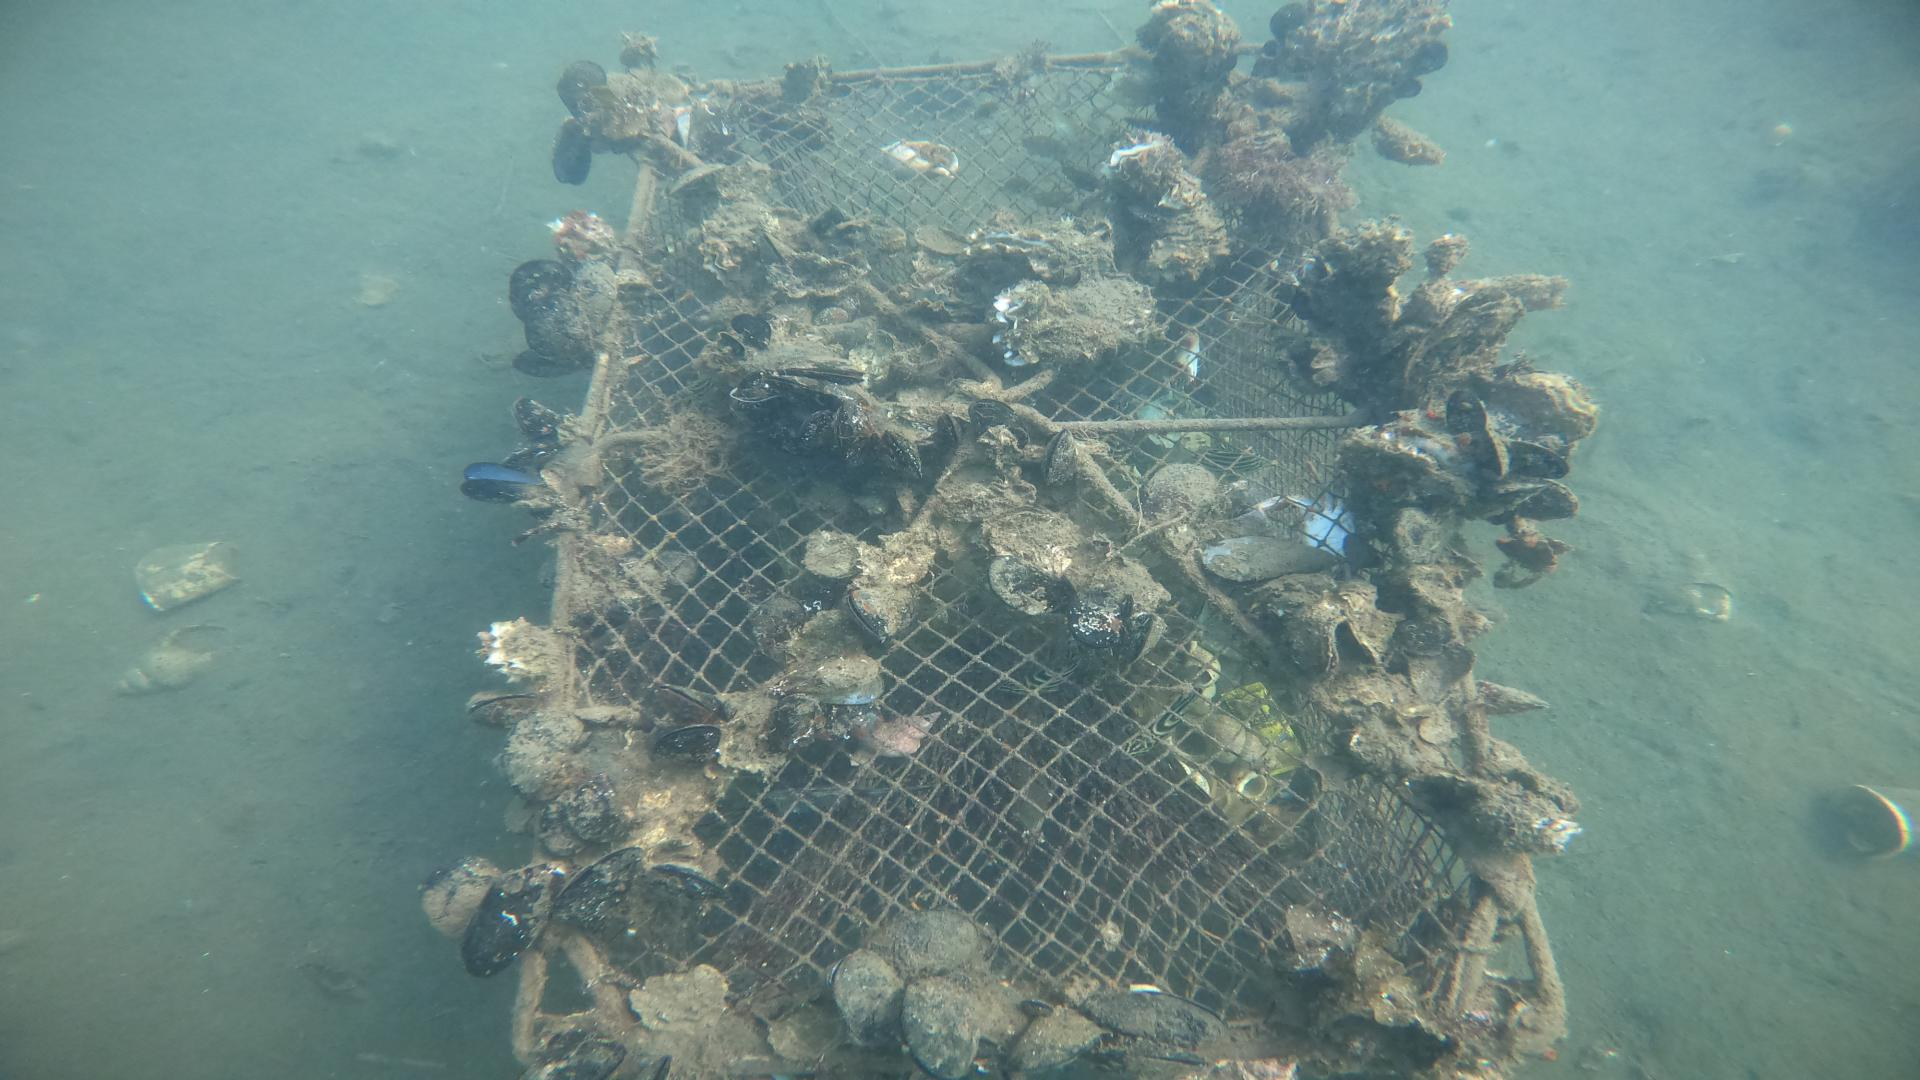rectangular fish trap: (506, 44, 1578, 1080)
